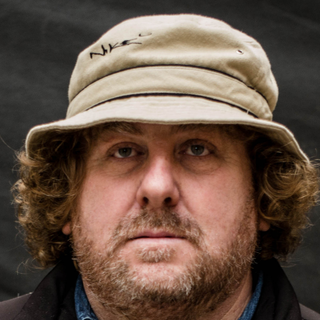eye: (176, 139, 216, 161), (104, 142, 147, 161)
